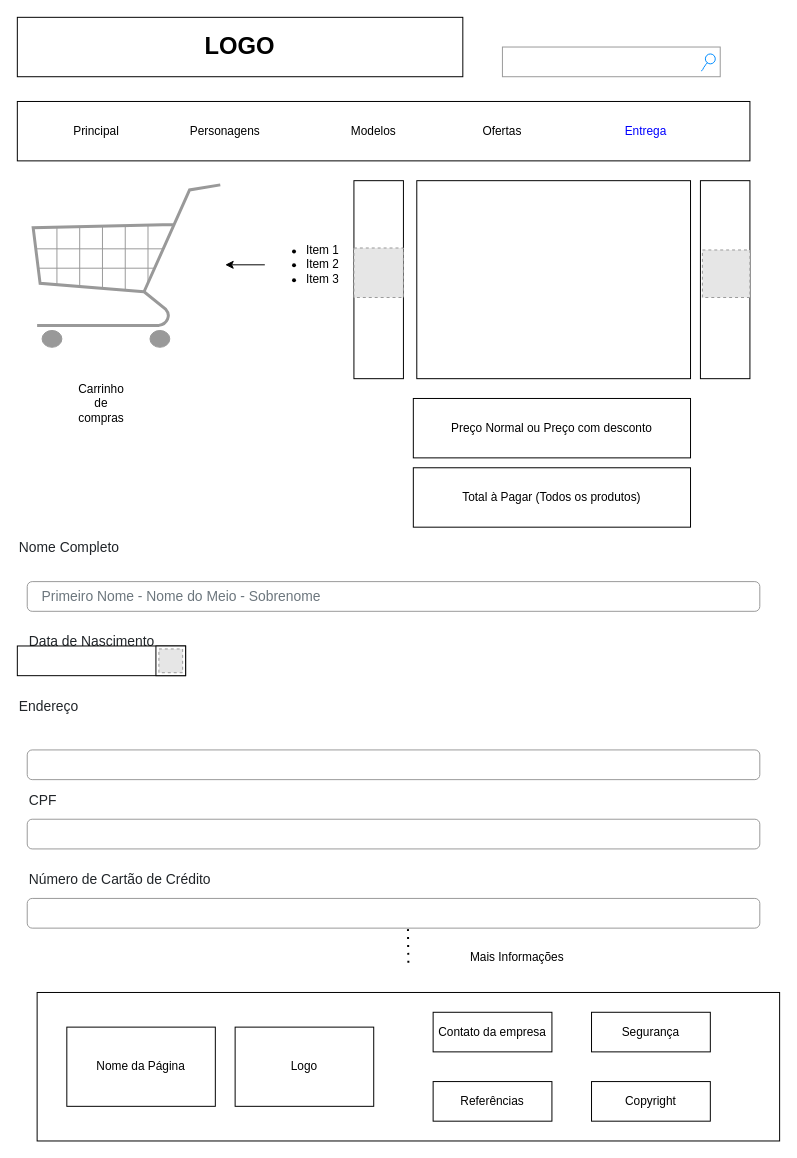
Image size: 797x1158. Some labels were removed from this diagram. Grey dashed boxes stand in for pictures. Each missing label, with the box of its shape:
DD/MM/AA: (16, 645, 186, 676)
Foto da Action figure 1: (416, 180, 691, 379)
Search: (501, 46, 720, 77)
